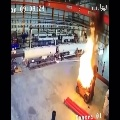fire: (77, 27, 95, 89)
